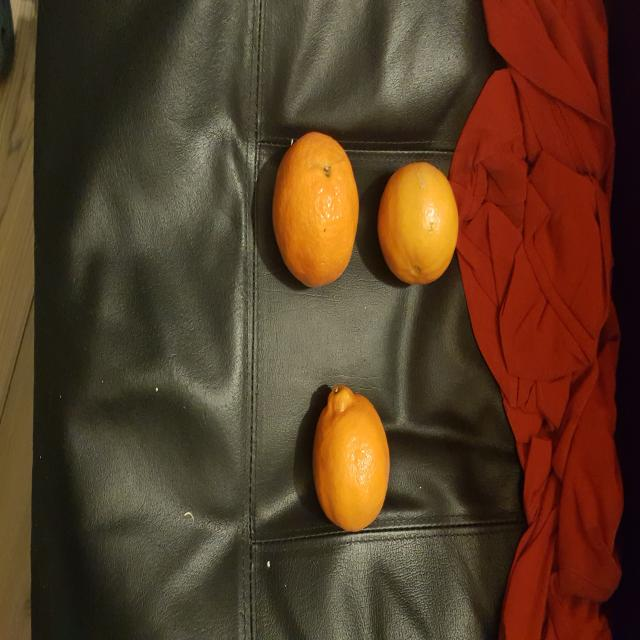Orange: (271, 132, 360, 290), (376, 162, 459, 286)
